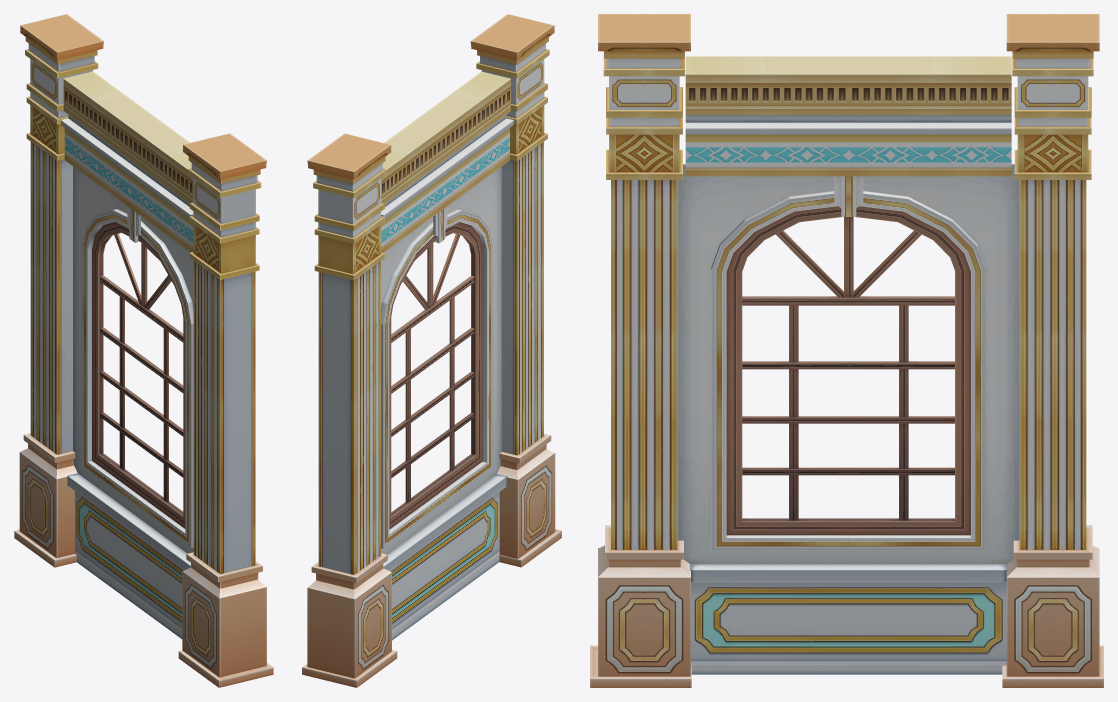
The model's file is my_trinityclassroom_01_partition_01.glb.
The picture shows the model from 3 angles, left to right: view 1: azimuth 30°, elevation 25°; view 2: azimuth 150°, elevation 25°; view 3: azimuth 270°, elevation 25°; orthographic projection. The views are drawn at different scales.
Parts seen in each view (by area): view 1: my_trinityclassroom_01_partition_01; view 2: my_trinityclassroom_01_partition_01; view 3: my_trinityclassroom_01_partition_01.
Part boxes in pixels (x1,y1,x2,y2): my_trinityclassroom_01_partition_01: (14, 14, 273, 687); my_trinityclassroom_01_partition_01: (302, 14, 561, 687); my_trinityclassroom_01_partition_01: (590, 14, 1103, 687).
Bounding box in the file's own units: 0.00184 × 0.0165 × 0.012.
Materials: 1 (1 with a texture image).
